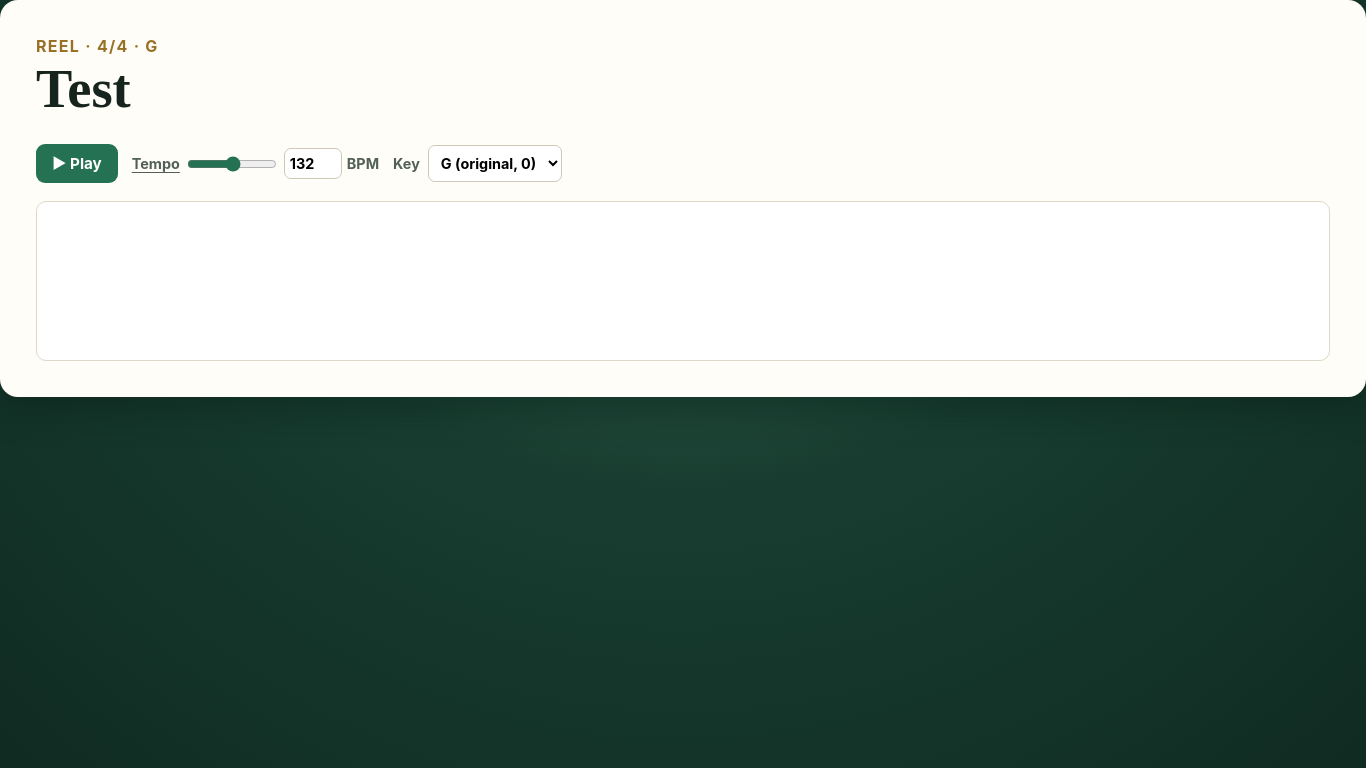
Test case: TuneDetail › shows initialization errors and allows retrying
The width and height of the screenshot is (1366, 768).
Click the button "▶ Play" at (77, 164), box x1=36 y1=144 x2=118 y2=183
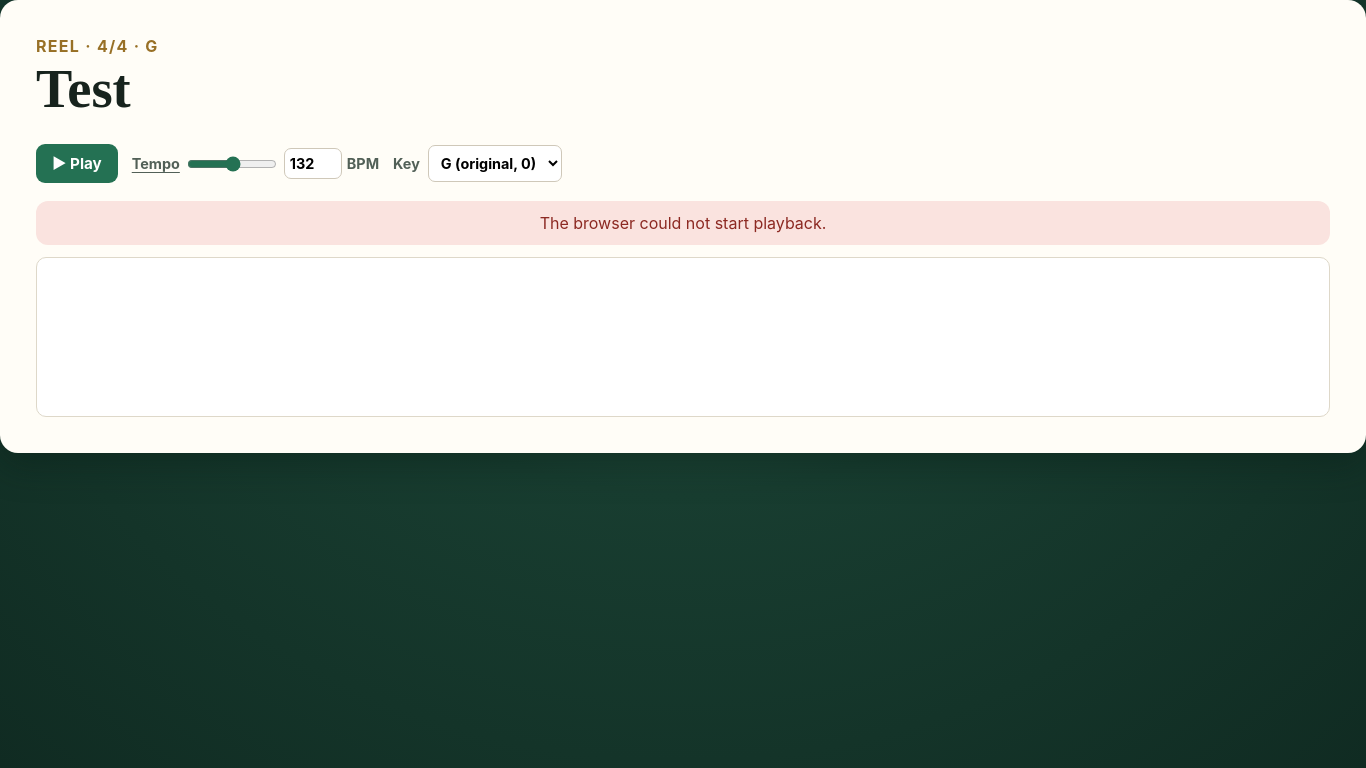
Expected: the message shows "could not start playback", x1=540 y1=213 x2=826 y2=233
Click the button "▶ Play" at (77, 164), box x1=36 y1=144 x2=118 y2=183
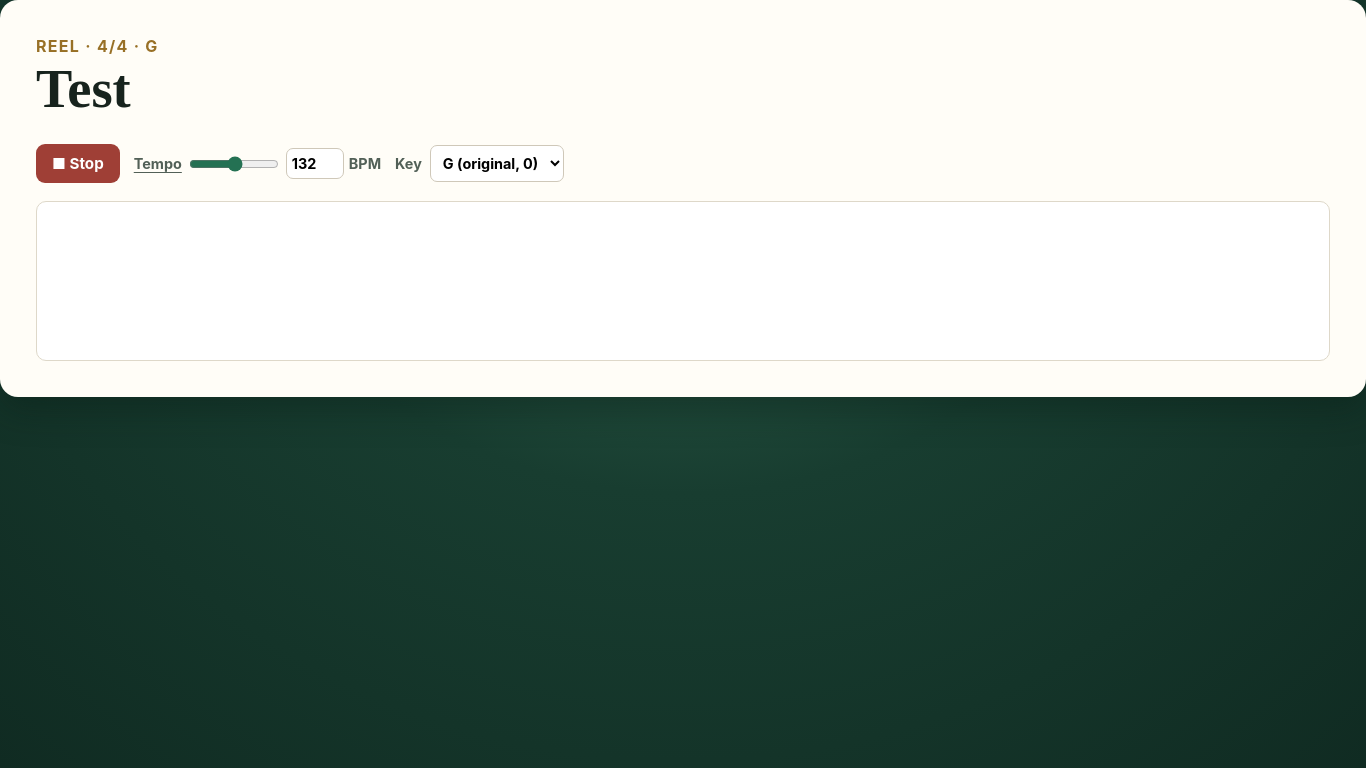
Expected: the button "■ Stop" is shown, x1=36 y1=144 x2=120 y2=183
